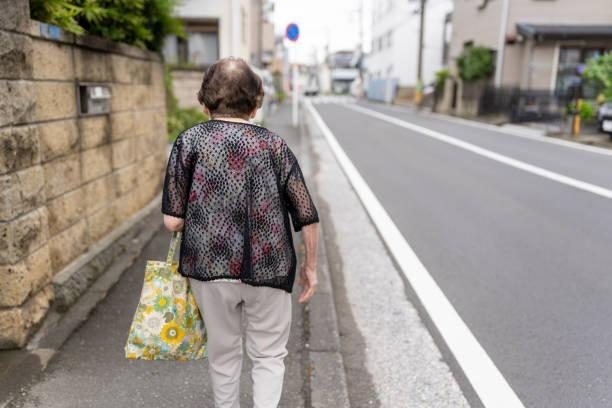Human: (152, 52, 327, 408)
